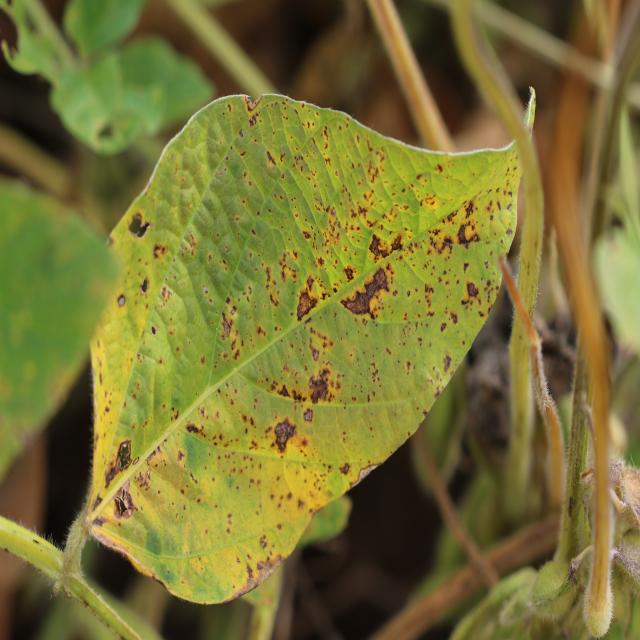Bacterial_Blight: (338, 251, 402, 336), (368, 230, 404, 261), (111, 481, 136, 521), (273, 417, 296, 452), (460, 279, 483, 312), (308, 372, 330, 404), (296, 289, 318, 321), (276, 254, 298, 286), (456, 222, 477, 246), (245, 94, 264, 111), (342, 264, 357, 283), (153, 242, 168, 260), (92, 493, 105, 513), (221, 314, 232, 337), (185, 422, 203, 435), (160, 285, 173, 302), (464, 200, 475, 217), (442, 354, 452, 372), (140, 277, 149, 295), (266, 150, 276, 166), (248, 113, 258, 128), (448, 311, 458, 325), (303, 408, 313, 422), (339, 463, 350, 475), (302, 228, 312, 241), (259, 535, 268, 549), (177, 449, 185, 464), (117, 294, 126, 307), (312, 348, 319, 361), (463, 262, 469, 273), (151, 326, 157, 336), (230, 306, 236, 316), (200, 356, 205, 365), (203, 286, 208, 294)
Soybean: (89, 95, 520, 603)
